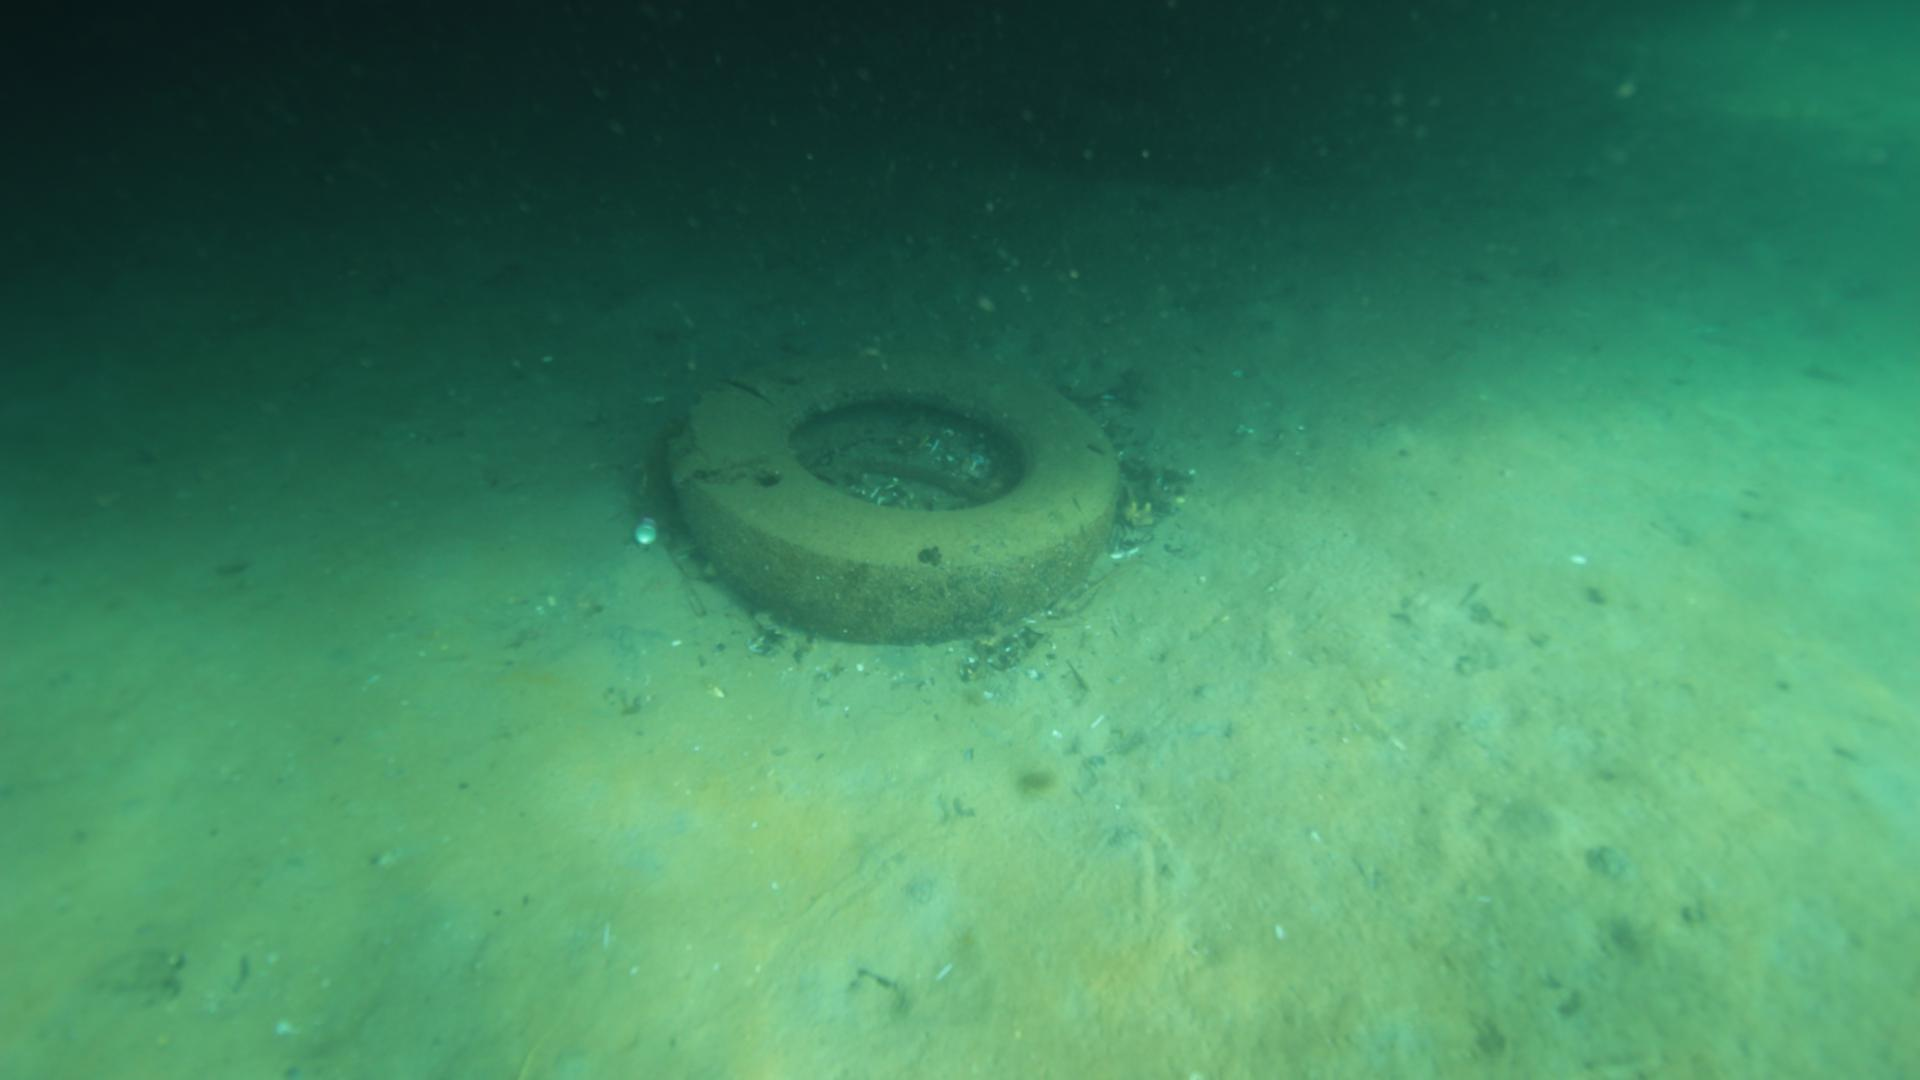tire: (670, 340, 1113, 644)
